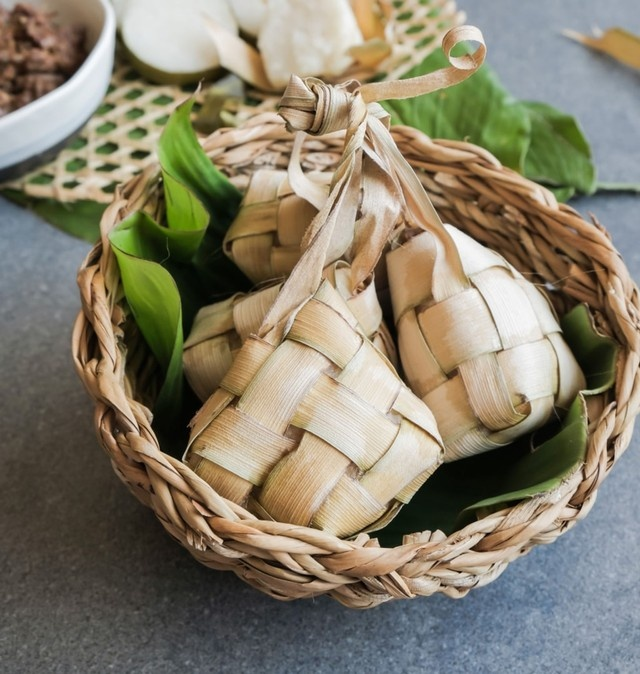ketupat: (182, 278, 445, 549), (382, 230, 586, 464)
